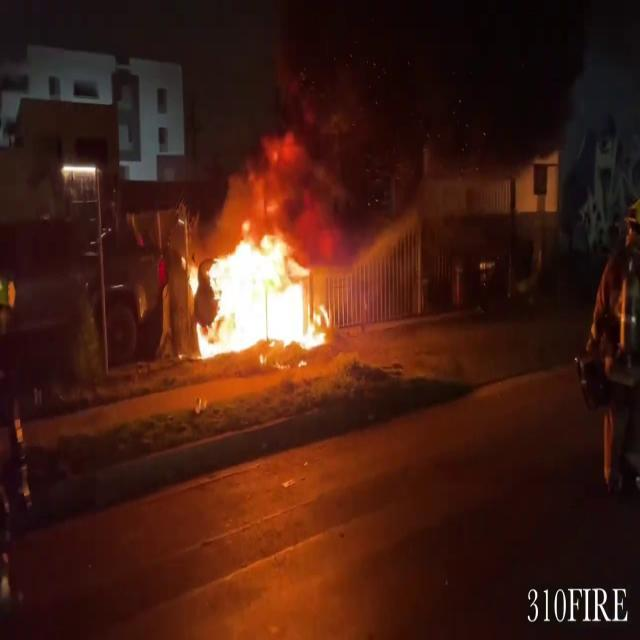Fire: (186, 222, 340, 366)
